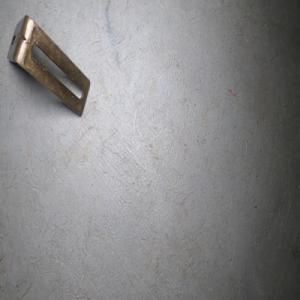MetalPart: (5, 13, 91, 117)
